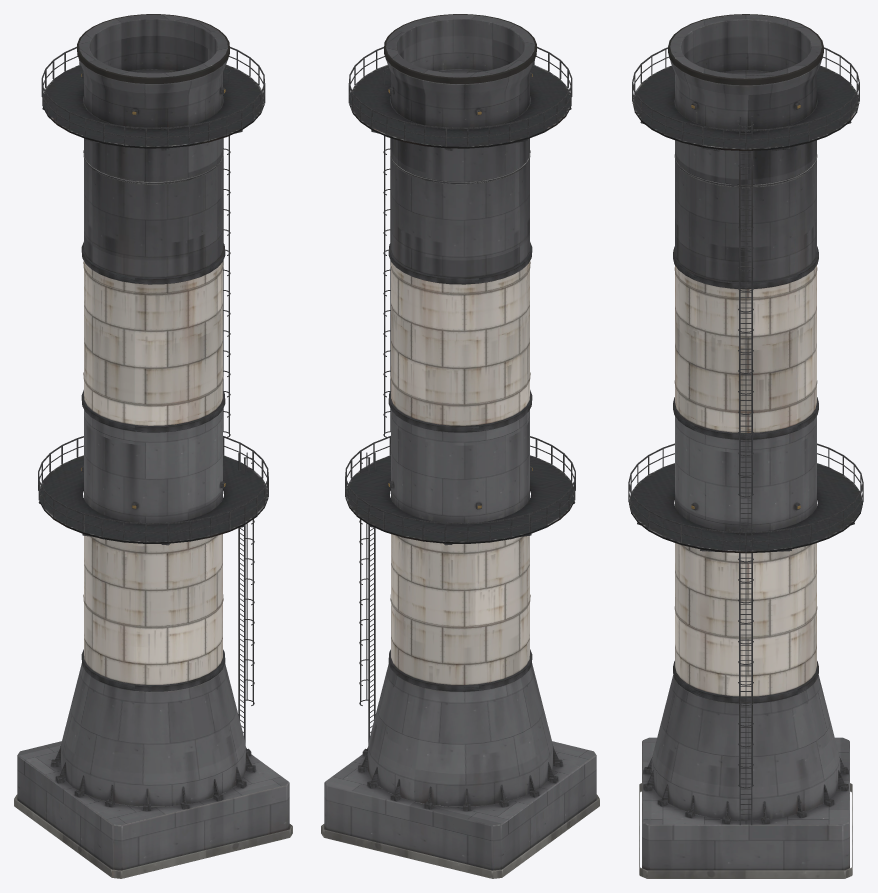
File: bandedStack.glb
3 views of the same model, side by side, from view 1: azimuth 30°, elevation 25°; view 2: azimuth 150°, elevation 25°; view 3: azimuth 270°, elevation 25° (orthographic).
Parts seen in each view (by area): view 1: bandedStack; view 2: bandedStack; view 3: bandedStack.
Part boxes in pixels (x1,y1,x2,y2): bandedStack: (14, 14, 292, 878); bandedStack: (321, 14, 599, 878); bandedStack: (628, 14, 863, 878).
Size of the model in its own units: 12.46 by 46 by 12.46.
Materials: 1 (1 with a texture image).
